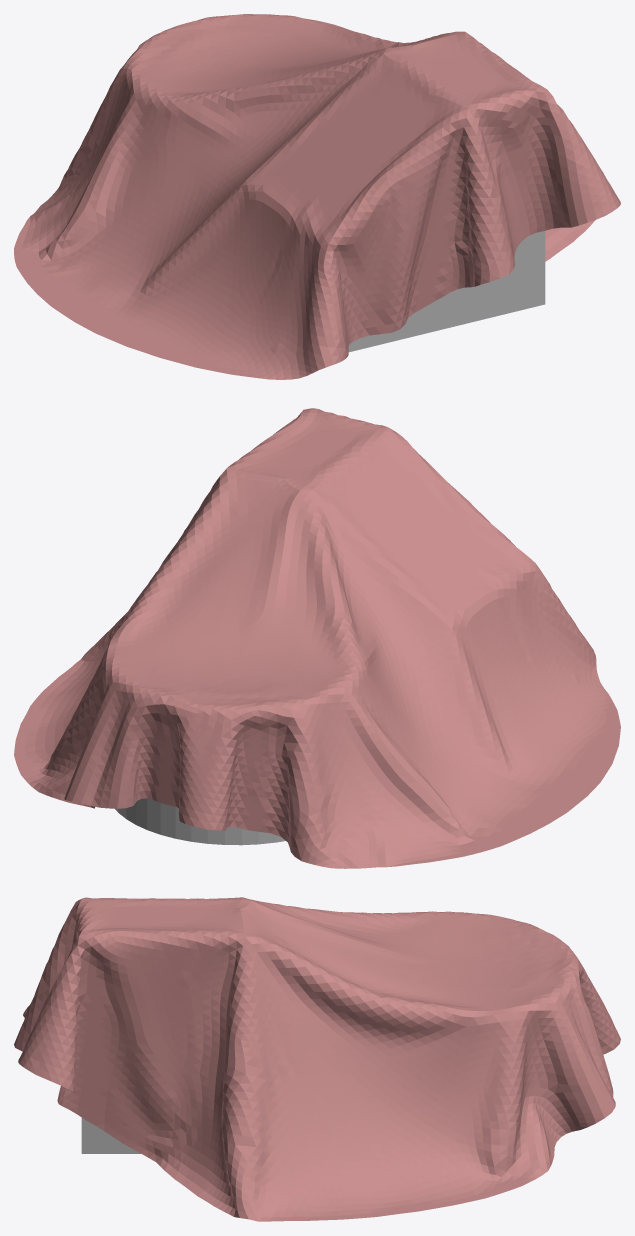
The model's file is level_2.glb.
The picture shows the model from 3 angles, top to bottom: view 1: azimuth 30°, elevation 25°; view 2: azimuth 150°, elevation 25°; view 3: azimuth 270°, elevation 25°; orthographic projection. The views are drawn at different scales.
Parts seen in each view (by area): view 1: world, object.obj; view 2: world, object.obj; view 3: world, object.obj.
Part boxes in pixels (<box>): world: <box>14,14,620,379</box>; object.obj: <box>348,231,545,352</box>; world: <box>14,408,620,868</box>; object.obj: <box>115,798,285,845</box>; world: <box>14,897,620,1221</box>; object.obj: <box>81,1118,140,1153</box>.
Size of the model in its own units: 0.4664 by 0.1906 by 0.4752.
